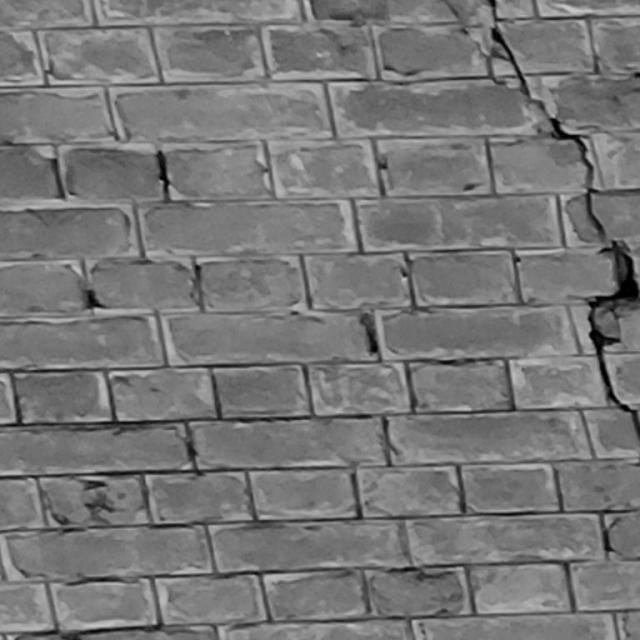crack: (444, 1, 639, 439)
